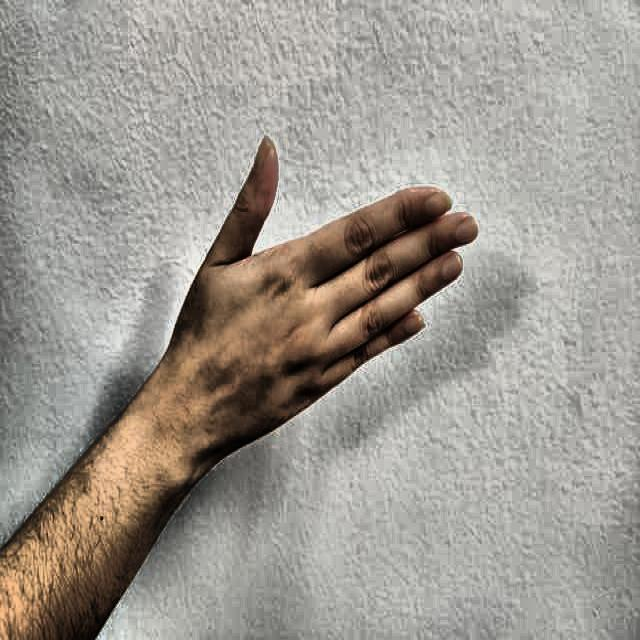Aa: (160, 102, 502, 478)
